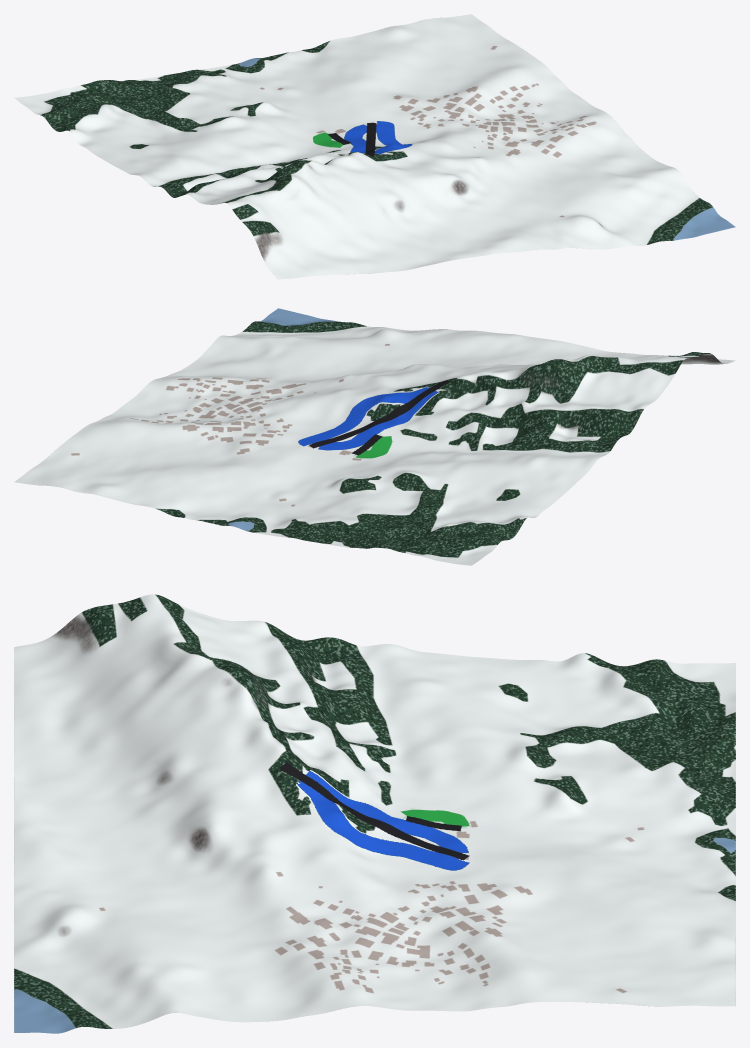
The picture shows the model from 3 angles, top to bottom: view 1: azimuth 30°, elevation 25°; view 2: azimuth 150°, elevation 25°; view 3: azimuth 270°, elevation 25°; orthographic projection. The views are drawn at different scales.
Visible parts, largest first — view 1: D4_Ellegglifte.glb; view 2: D4_Ellegglifte.glb; view 3: D4_Ellegglifte.glb.
Part boxes in pixels (x1,y1,x2,y2): D4_Ellegglifte.glb: (14, 14, 735, 279); D4_Ellegglifte.glb: (14, 308, 735, 565); D4_Ellegglifte.glb: (14, 594, 735, 1033).
Bounding box in the file's own units: 1200 × 246 × 1200.
1 material, 1 textured.
